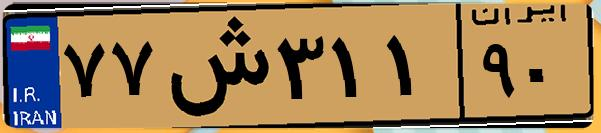0: (525, 38, 570, 115)
1: (385, 28, 445, 110), (330, 28, 385, 110)
3: (270, 28, 330, 110)
7: (57, 26, 110, 100), (110, 28, 158, 98)
9: (475, 38, 525, 113)
ش: (158, 12, 270, 120)
